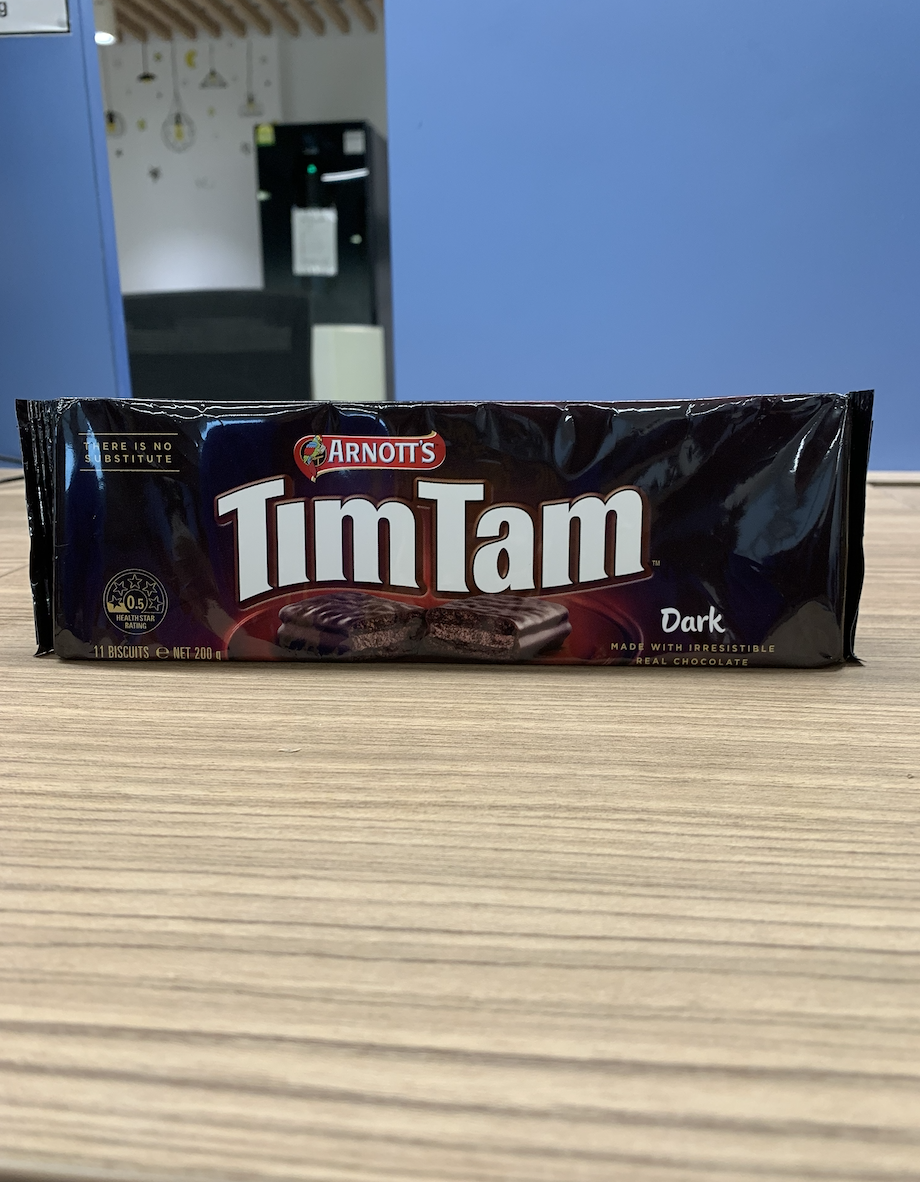cookies_150g: (44, 402, 849, 660)
